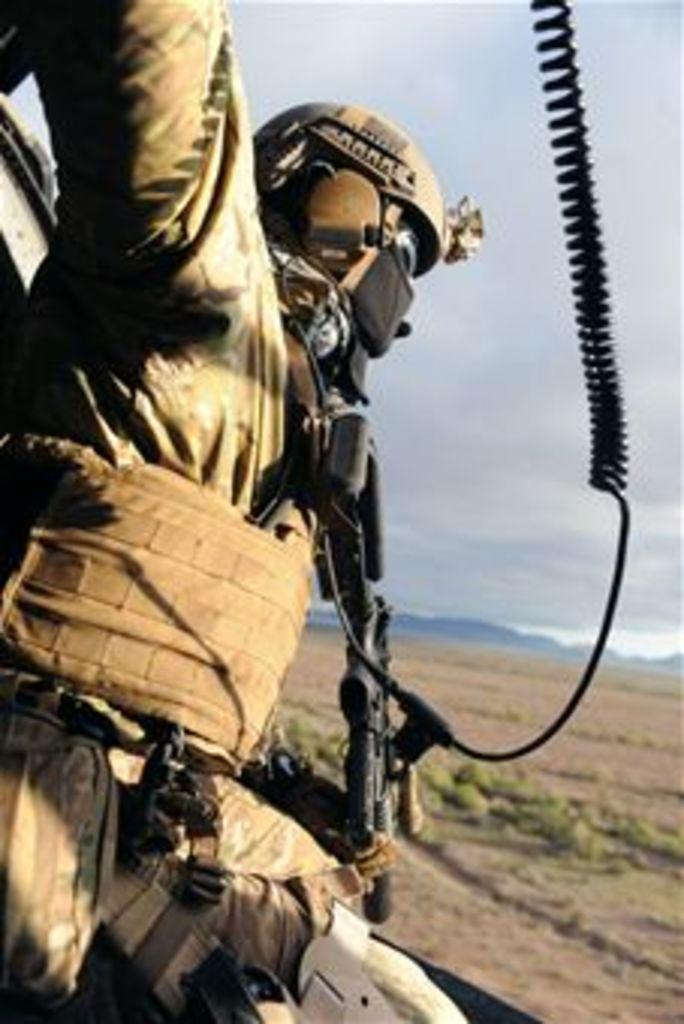non-violence: (0, 0, 461, 1021)
weapon: (256, 418, 407, 924)
